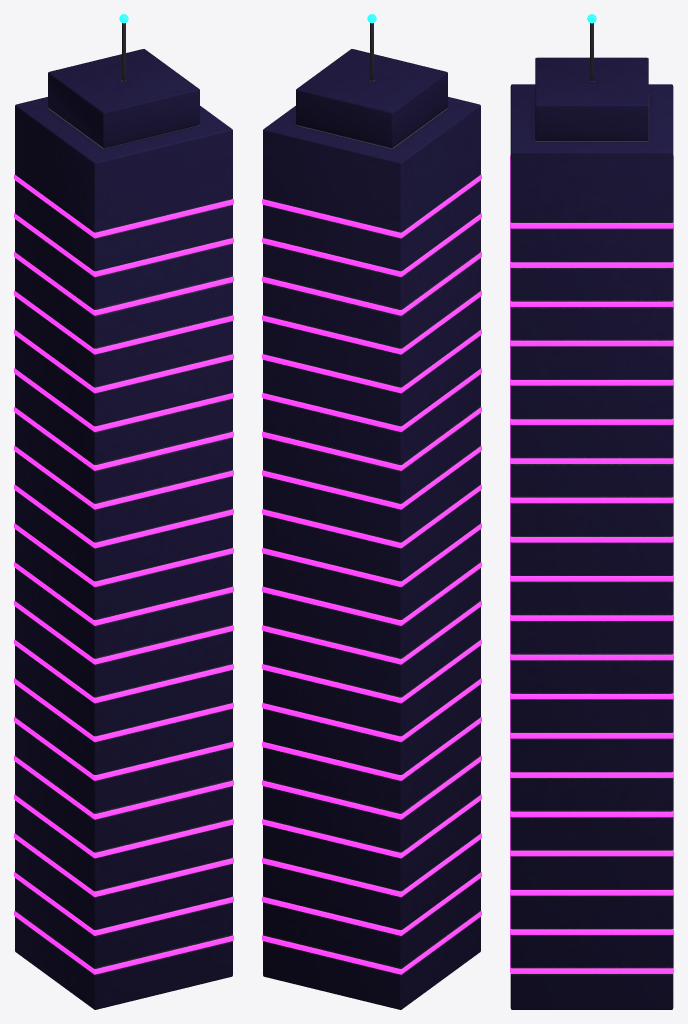
The model's file is rn_skyscraper.glb.
3 renders of one model, left to right at view 1: azimuth 30°, elevation 25°; view 2: azimuth 150°, elevation 25°; view 3: azimuth 270°, elevation 25°, orthographic.
Parts seen in each view (by area): view 1: rn_skyscraper; view 2: rn_skyscraper; view 3: rn_skyscraper.
Part boxes in pixels (left/top/right/bottom): rn_skyscraper: left=14, top=14, right=233, bottom=1009; rn_skyscraper: left=262, top=14, right=481, bottom=1009; rn_skyscraper: left=510, top=14, right=673, bottom=1009.
Size of the model in its own units: 12.1 by 78.45 by 12.1.
4 materials, 4 textured.
